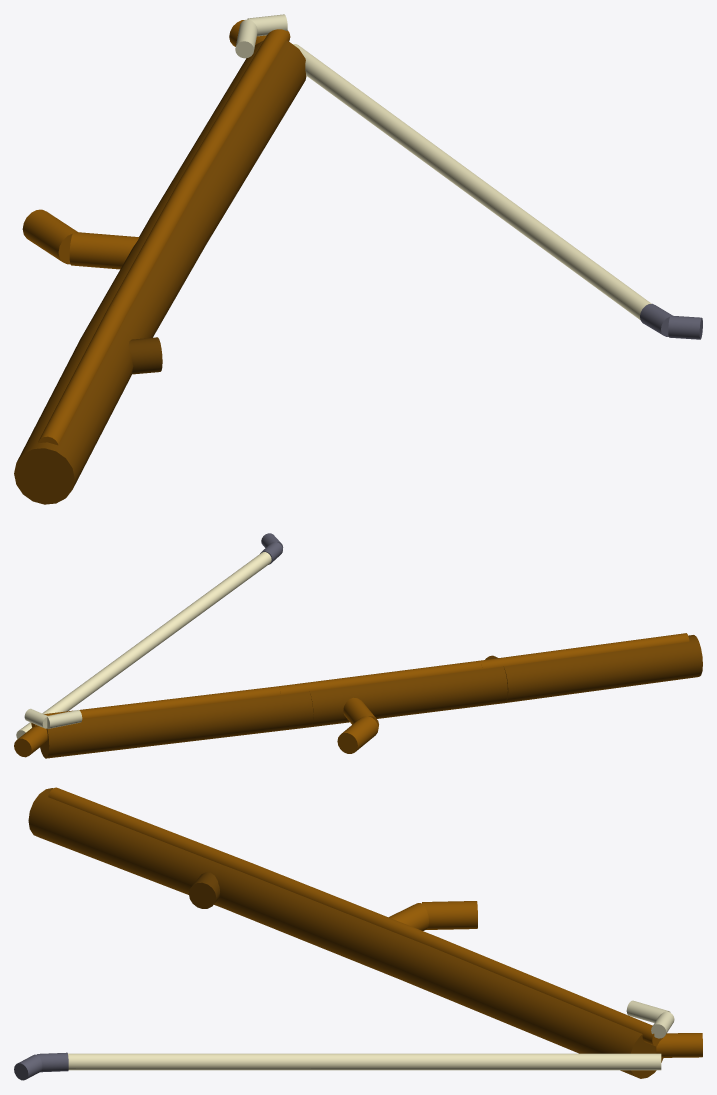
Rendered from CMU3DFishingRodMakeshiftNaturalFinalCloudActiveStudy.glb.
The picture shows the model from 3 angles, top to bottom: view 1: azimuth 30°, elevation 25°; view 2: azimuth 150°, elevation 25°; view 3: azimuth 270°, elevation 25°; orthographic projection. The views are drawn at different scales.
Visible parts, largest first — view 1: uneven wooden makeshift rod segment 1, long pale improvised fishing line segment 1, uneven wooden makeshift rod segment 3, uneven wooden makeshift rod segment 2, lighter exposed branch ridge segment 3, lighter exposed branch ridge segment 1, lighter exposed branch ridge segment 2, crooked upper fork twig segment 1, crooked upper fork twig segment 2, short lower broken twig segment 1, dark simple hook segment 2; view 2: uneven wooden makeshift rod segment 3, uneven wooden makeshift rod segment 1, uneven wooden makeshift rod segment 2, long pale improvised fishing line segment 1, lighter exposed branch ridge segment 3, lighter exposed branch ridge segment 1, lighter exposed branch ridge segment 2, crooked upper fork twig segment 2, broken upper tip segment 1, crooked upper fork twig segment 1, string binding at upper tip segment 1; view 3: uneven wooden makeshift rod segment 3, long pale improvised fishing line segment 1, uneven wooden makeshift rod segment 2, uneven wooden makeshift rod segment 1, lighter exposed branch ridge segment 3, lighter exposed branch ridge segment 1, lighter exposed branch ridge segment 2, crooked upper fork twig segment 2, broken upper tip segment 1, short lower broken twig segment 1, crooked upper fork twig segment 1, string binding at upper tip segment 1 (+2 smaller).
Boxes of the visible parts, x1,y1,x2,y2 form: uneven wooden makeshift rod segment 1: (14,325,133,504); long pale improvised fishing line segment 1: (293,44,651,319); uneven wooden makeshift rod segment 3: (151,40,306,243); uneven wooden makeshift rod segment 2: (80,204,208,339); lighter exposed branch ridge segment 3: (178,29,290,186); lighter exposed branch ridge segment 1: (38,305,126,445); lighter exposed branch ridge segment 2: (107,178,197,313); crooked upper fork twig segment 1: (69,232,139,269); crooked upper fork twig segment 2: (22,209,77,264); short lower broken twig segment 1: (128,337,162,374); dark simple hook segment 2: (668,315,702,339); uneven wooden makeshift rod segment 3: (40,691,313,758); uneven wooden makeshift rod segment 1: (503,635,702,703); uneven wooden makeshift rod segment 2: (310,666,507,727); long pale improvised fishing line segment 1: (16,552,271,738); lighter exposed branch ridge segment 3: (31,686,280,727); lighter exposed branch ridge segment 1: (480,633,689,669); lighter exposed branch ridge segment 2: (278,660,482,695); crooked upper fork twig segment 2: (337,716,378,753); broken upper tip segment 1: (14,726,47,757); crooked upper fork twig segment 1: (343,697,378,727); string binding at upper tip segment 1: (47,710,82,728); uneven wooden makeshift rod segment 3: (390,936,663,1078); long pale improvised fishing line segment 1: (68,1053,661,1070); uneven wooden makeshift rod segment 2: (215,865,402,977); uneven wooden makeshift rod segment 1: (28,788,222,906); lighter exposed branch ridge segment 3: (430,937,664,1046); lighter exposed branch ridge segment 1: (48,787,250,872); lighter exposed branch ridge segment 2: (243,863,437,946); crooked upper fork twig segment 2: (422,901,477,929); broken upper tip segment 1: (655,1033,702,1057); short lower broken twig segment 1: (189,872,219,908); crooked upper fork twig segment 1: (388,903,428,930); string binding at upper tip segment 1: (626,1000,670,1022).
Size of the model in its own units: 0.7299 by 0.0745 by 0.7836.
